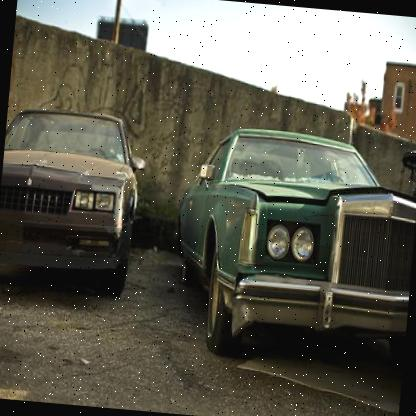car: (163, 117, 416, 373), (0, 93, 155, 307)
